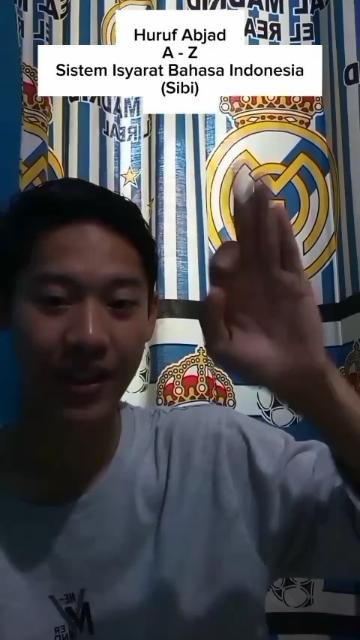F: (190, 164, 330, 393)
